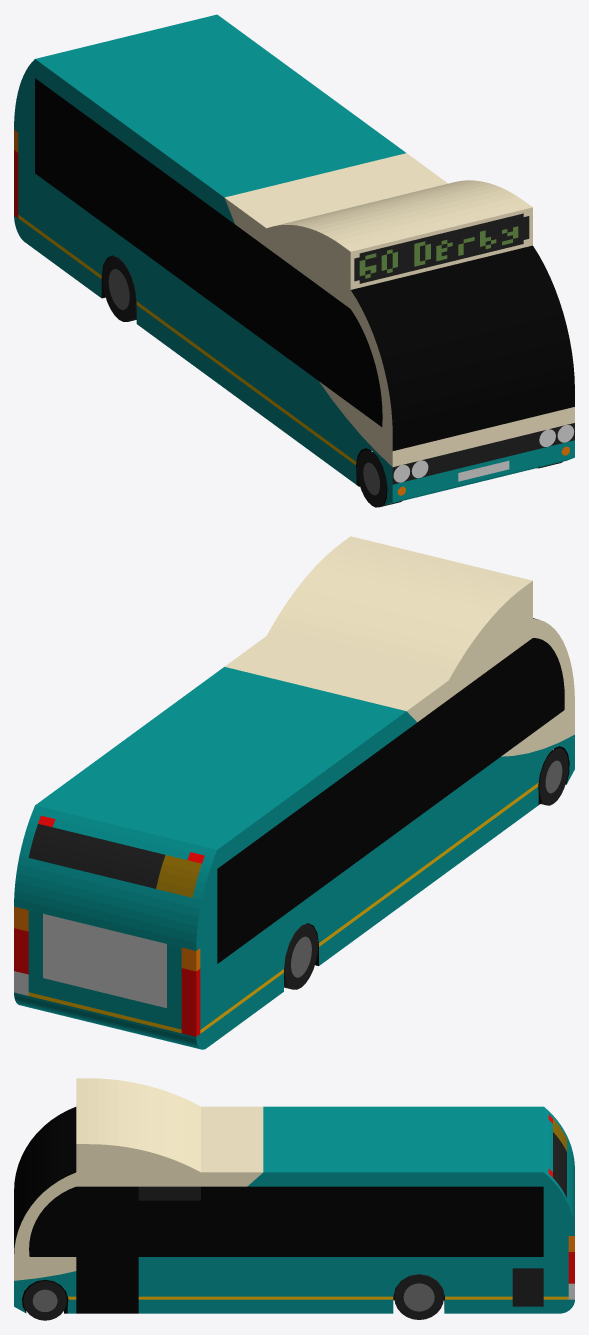
The model's file is solo.dae.
The picture shows the model from 3 angles, top to bottom: view 1: azimuth 30°, elevation 25°; view 2: azimuth 150°, elevation 25°; view 3: azimuth 270°, elevation 25°; orthographic projection. The views are drawn at different scales.
Parts seen in each view (by area): view 1: SketchUp (×12); view 2: SketchUp (×15); view 3: SketchUp (×14).
Boxes of the visible parts, <box> form: SketchUp (×12): <box>14,14,574,507</box>; SketchUp (×15): <box>14,536,574,1049</box>; SketchUp (×14): <box>14,1078,574,1320</box>.
Bounding box in the file's own units: 98.43 × 354 × 123.
